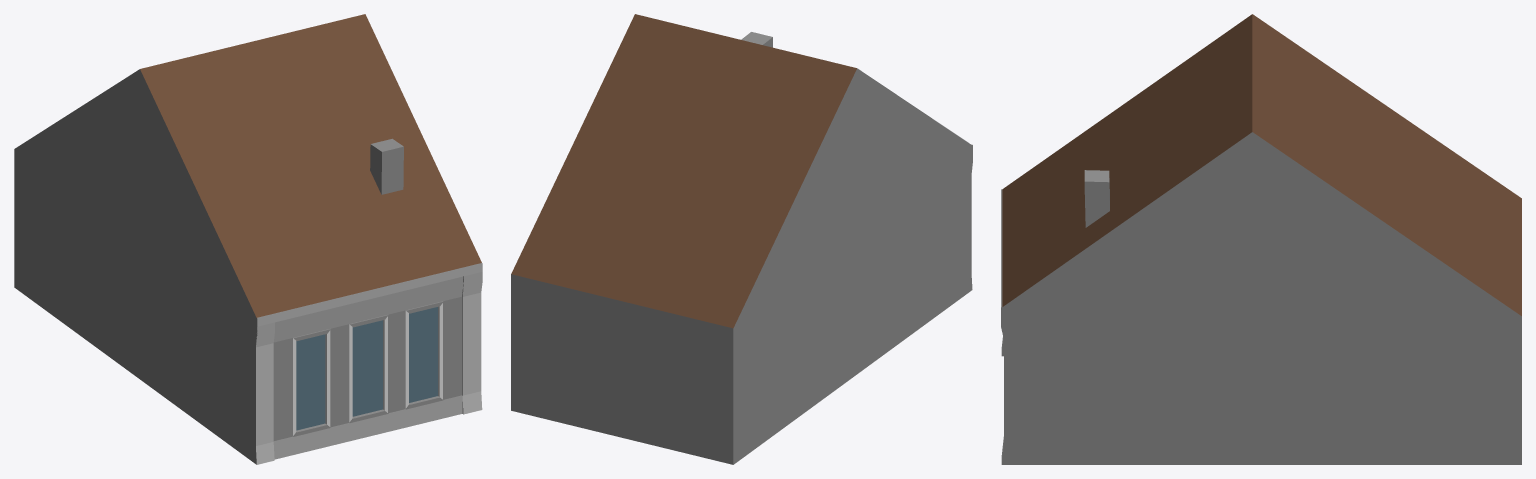
Rendered from Rooof.fbx.
The picture shows the model from 3 angles, left to right: view 1: azimuth 30°, elevation 25°; view 2: azimuth 150°, elevation 25°; view 3: azimuth 270°, elevation 25°; orthographic projection. The views are drawn at different scales.
Visible parts, largest first — view 1: rooof; view 2: rooof; view 3: rooof.
Boxes of the visible parts, left/top/right/bottom form: rooof: left=14, top=14, right=482, bottom=464; rooof: left=511, top=14, right=972, bottom=464; rooof: left=1001, top=14, right=1521, bottom=464.
Bounding box in the file's own units: 479 × 630 × 894.
